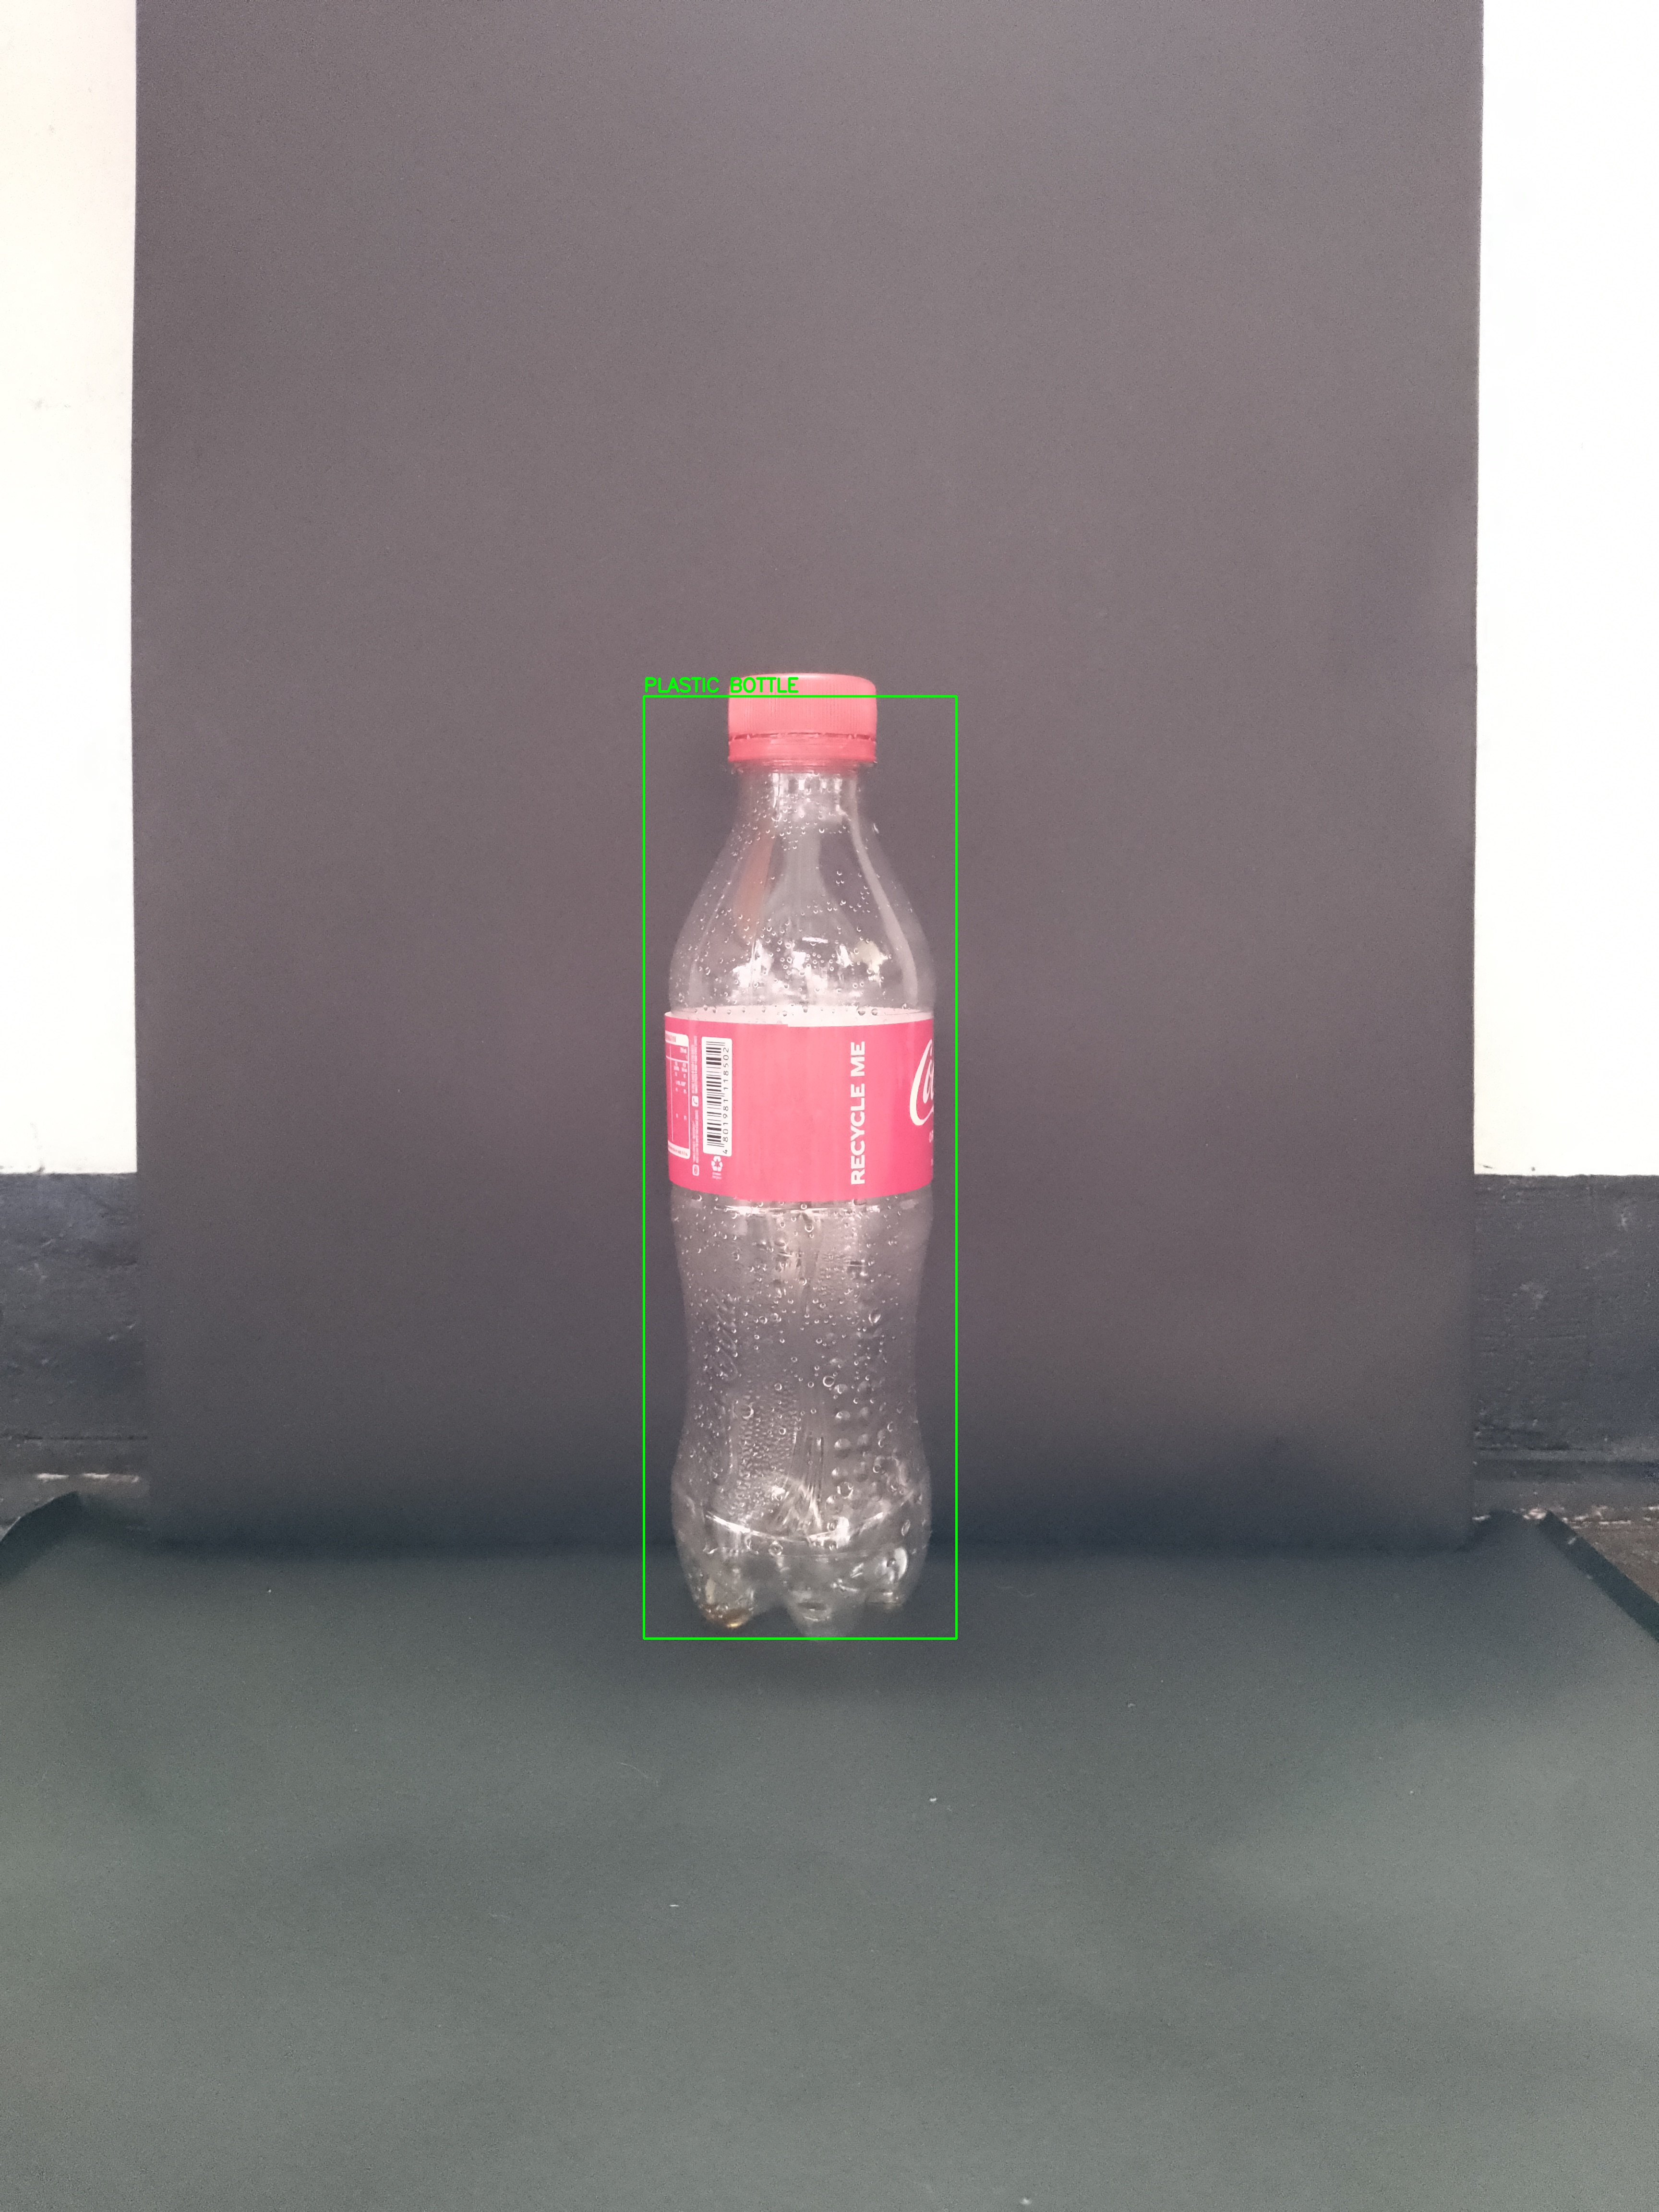plastic bottle: (648, 660, 955, 1656)
